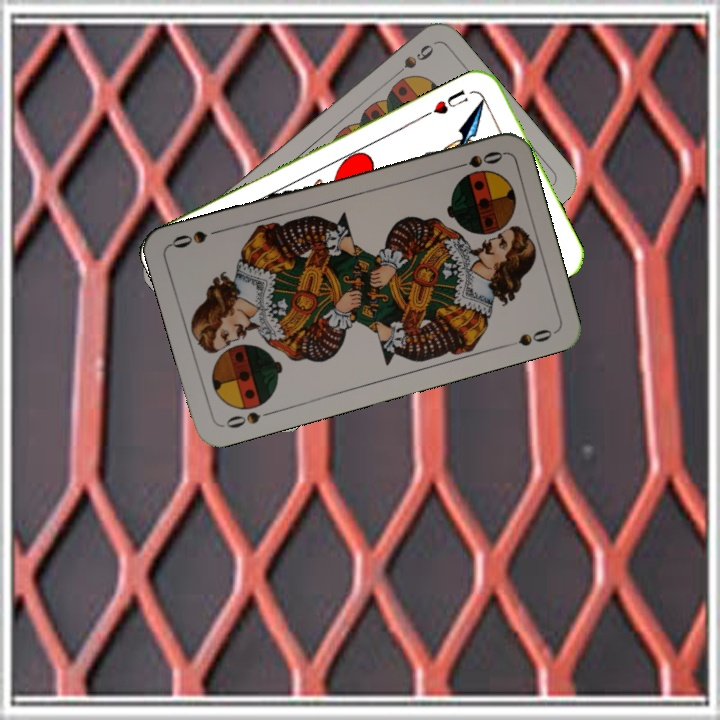HU: (421, 85, 471, 119)
S9: (386, 40, 436, 83)
SO: (447, 147, 506, 173), (219, 406, 277, 431)
